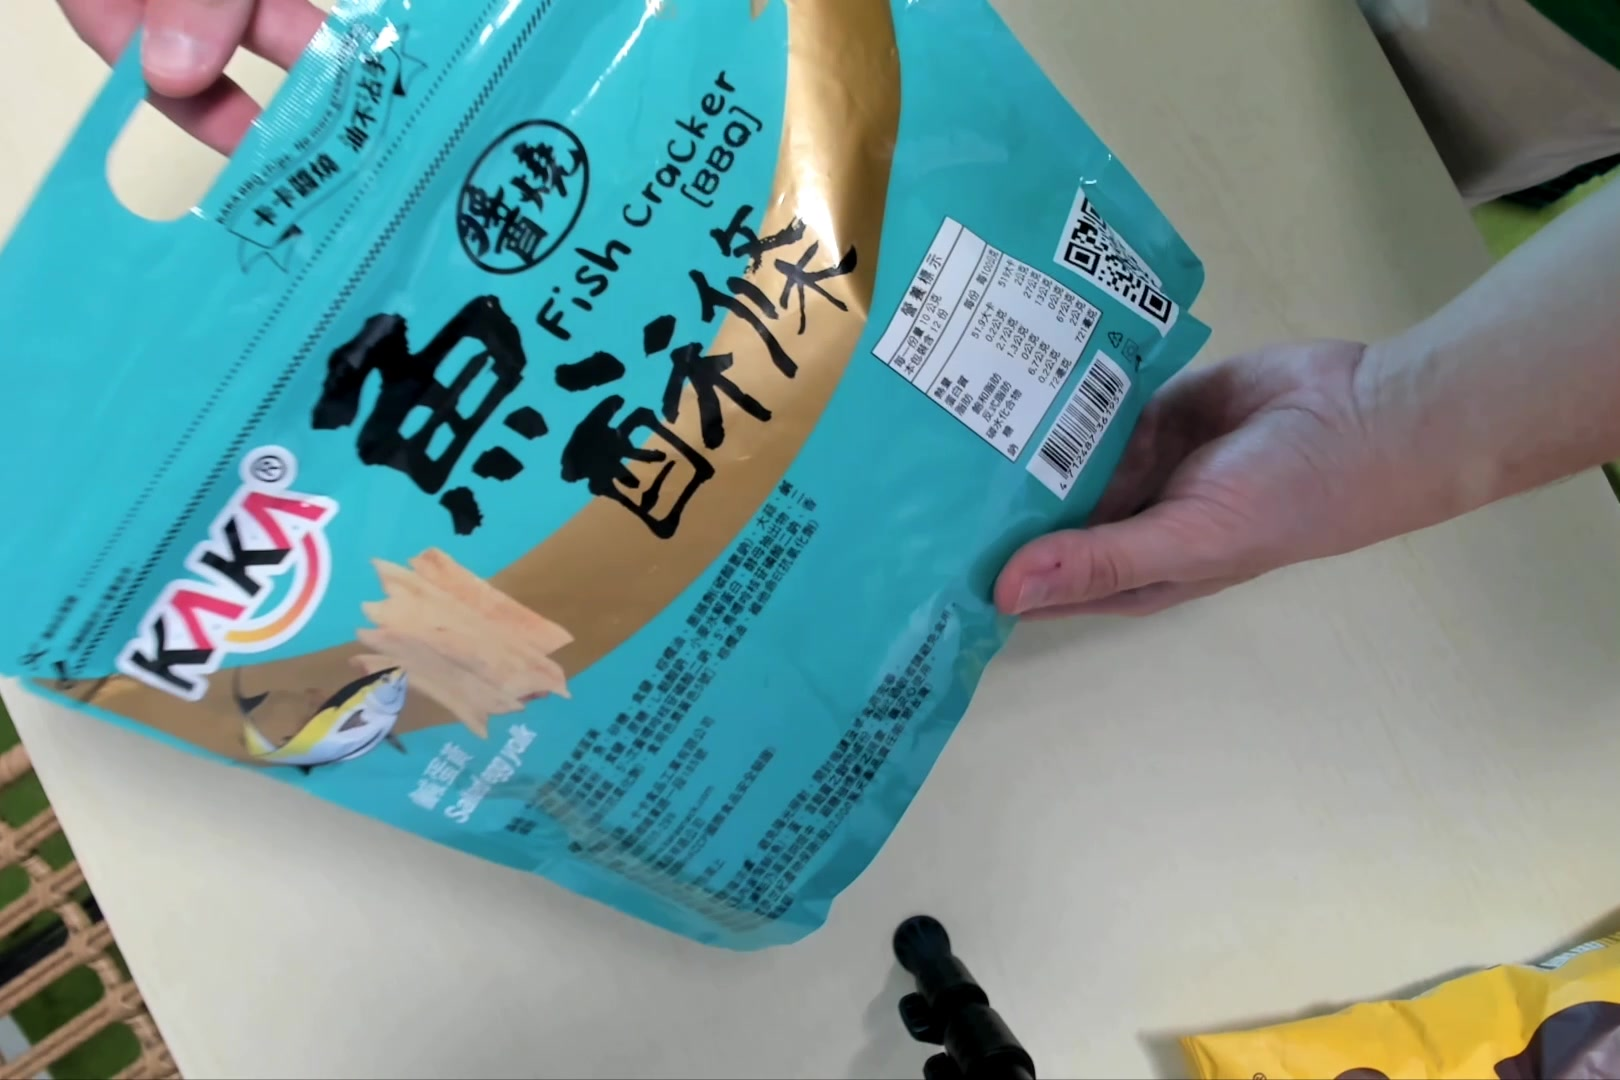PotatoChipsKeropok_100-199g_NonHalal_NonHealthy: (2, 1, 1217, 950)
